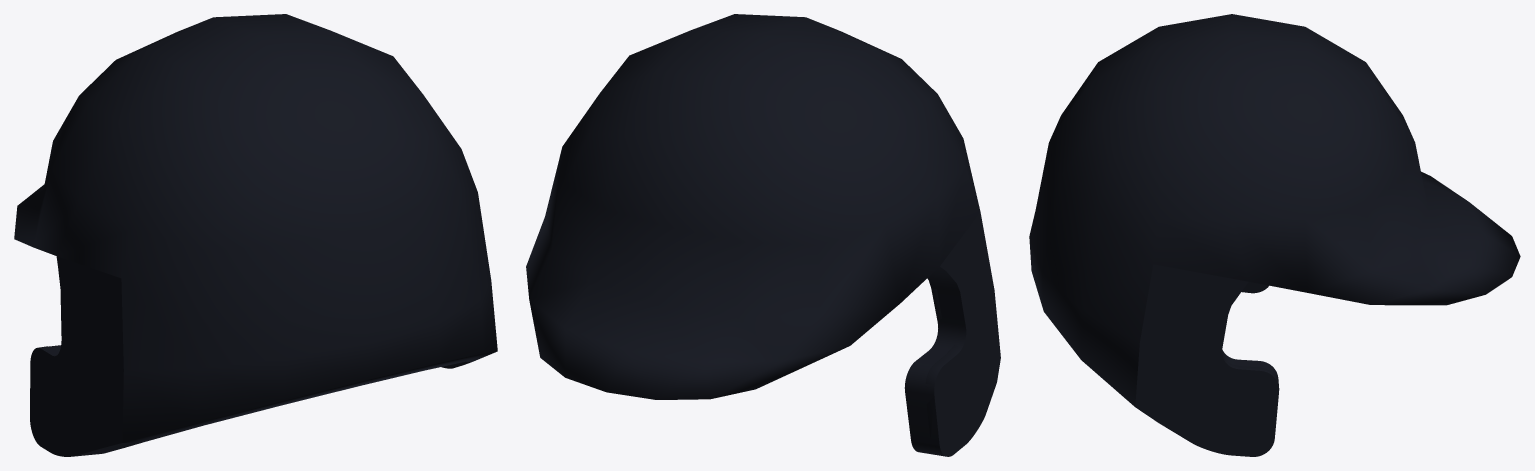
Rendered from CASCO DE BASEBALL.glb.
3 views of the same model, side by side, from view 1: azimuth 30°, elevation 25°; view 2: azimuth 150°, elevation 25°; view 3: azimuth 270°, elevation 25° (orthographic). The views are drawn at different scales.
Parts seen in each view (by area): view 1: Cube; view 2: Cube; view 3: Cube.
Boxes of the visible parts, left/top/right/bottom form: Cube: left=14, top=14, right=497, bottom=456; Cube: left=526, top=14, right=1000, bottom=456; Cube: left=1029, top=14, right=1520, bottom=456.
Bounding box in the file's own units: 2.03 × 1.76 × 2.33.
1 material, 1 textured.
